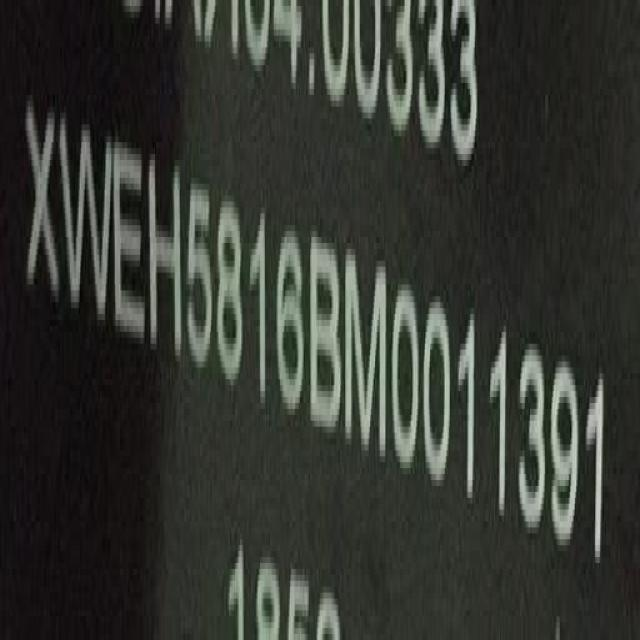0: (420, 281, 454, 500), (392, 285, 418, 474)
1: (247, 202, 272, 408), (487, 303, 510, 516), (458, 292, 479, 507), (586, 377, 606, 562)
3: (517, 340, 546, 529)
5: (186, 180, 214, 386)
6: (274, 226, 307, 424)
8: (215, 189, 244, 399)
9: (550, 356, 580, 553)
B: (310, 224, 342, 452)
E: (112, 140, 146, 344)
H: (146, 145, 186, 358)
M: (343, 239, 388, 465)
W: (57, 103, 113, 340)
X: (25, 90, 59, 329)
